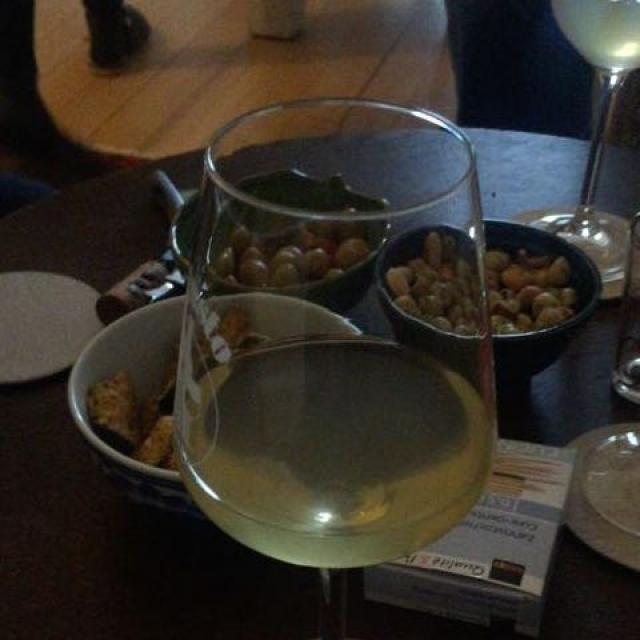wine: (175, 349, 492, 573)
